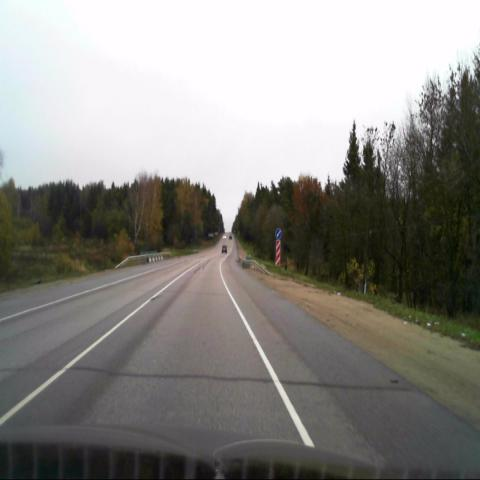4_2_2: (275, 228, 282, 240)
